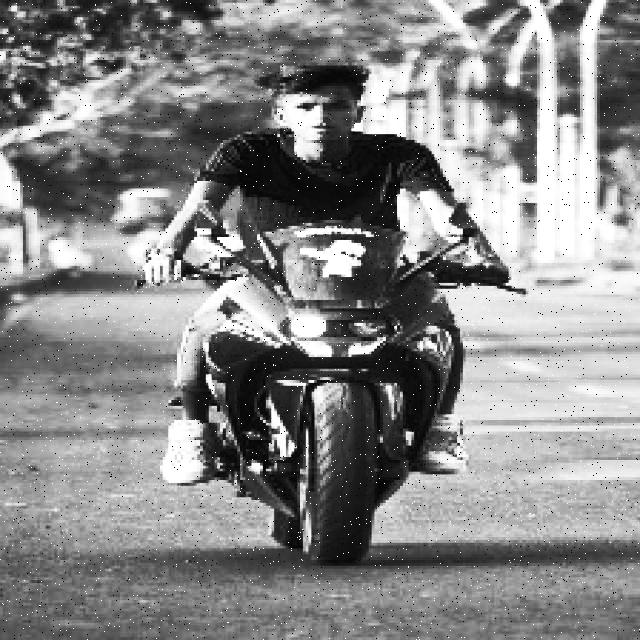Bike: (164, 228, 467, 567)
